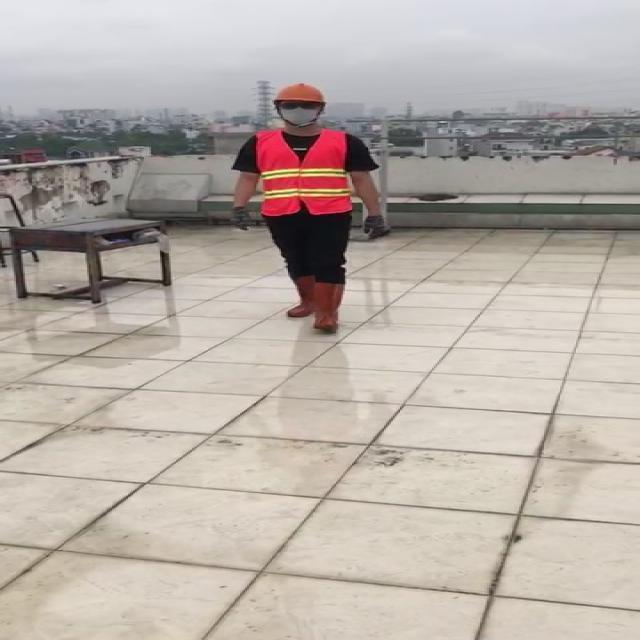gloves: (362, 215, 391, 240), (229, 207, 256, 231)
goggles: (275, 104, 328, 110)
helmet: (271, 83, 328, 104)
safety_vest: (255, 128, 348, 217)
